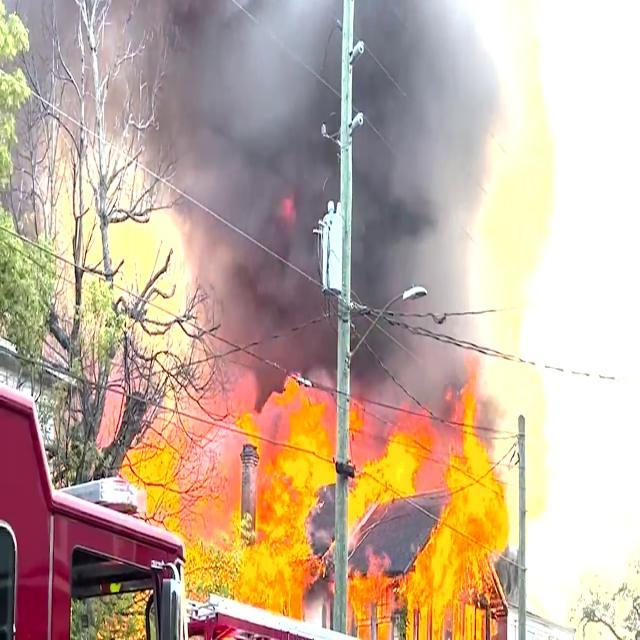Fire: (132, 436, 314, 610), (432, 414, 502, 640), (359, 577, 422, 640), (354, 445, 424, 498), (310, 402, 332, 481)
Smoke: (161, 0, 466, 373)
